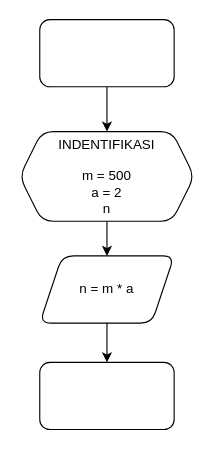
This 214x449 diagram has some shape labels left out. The box of each missing label's shape, as (x1, y1, x2, y2) in pixels:
START: (39, 18, 174, 87)
STOP: (39, 361, 174, 430)
